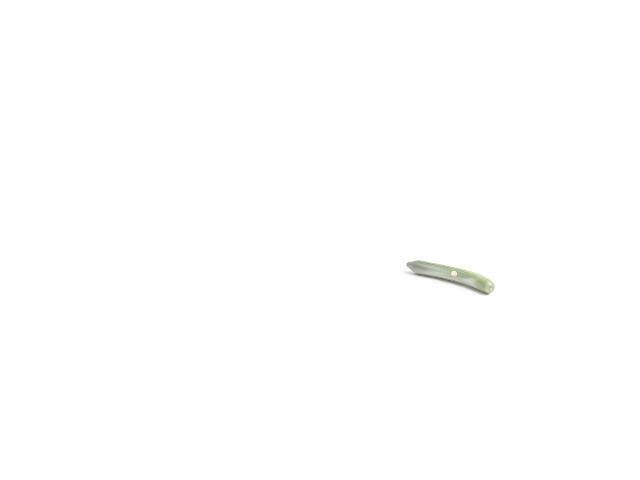cucumber: (406, 260, 495, 293)
